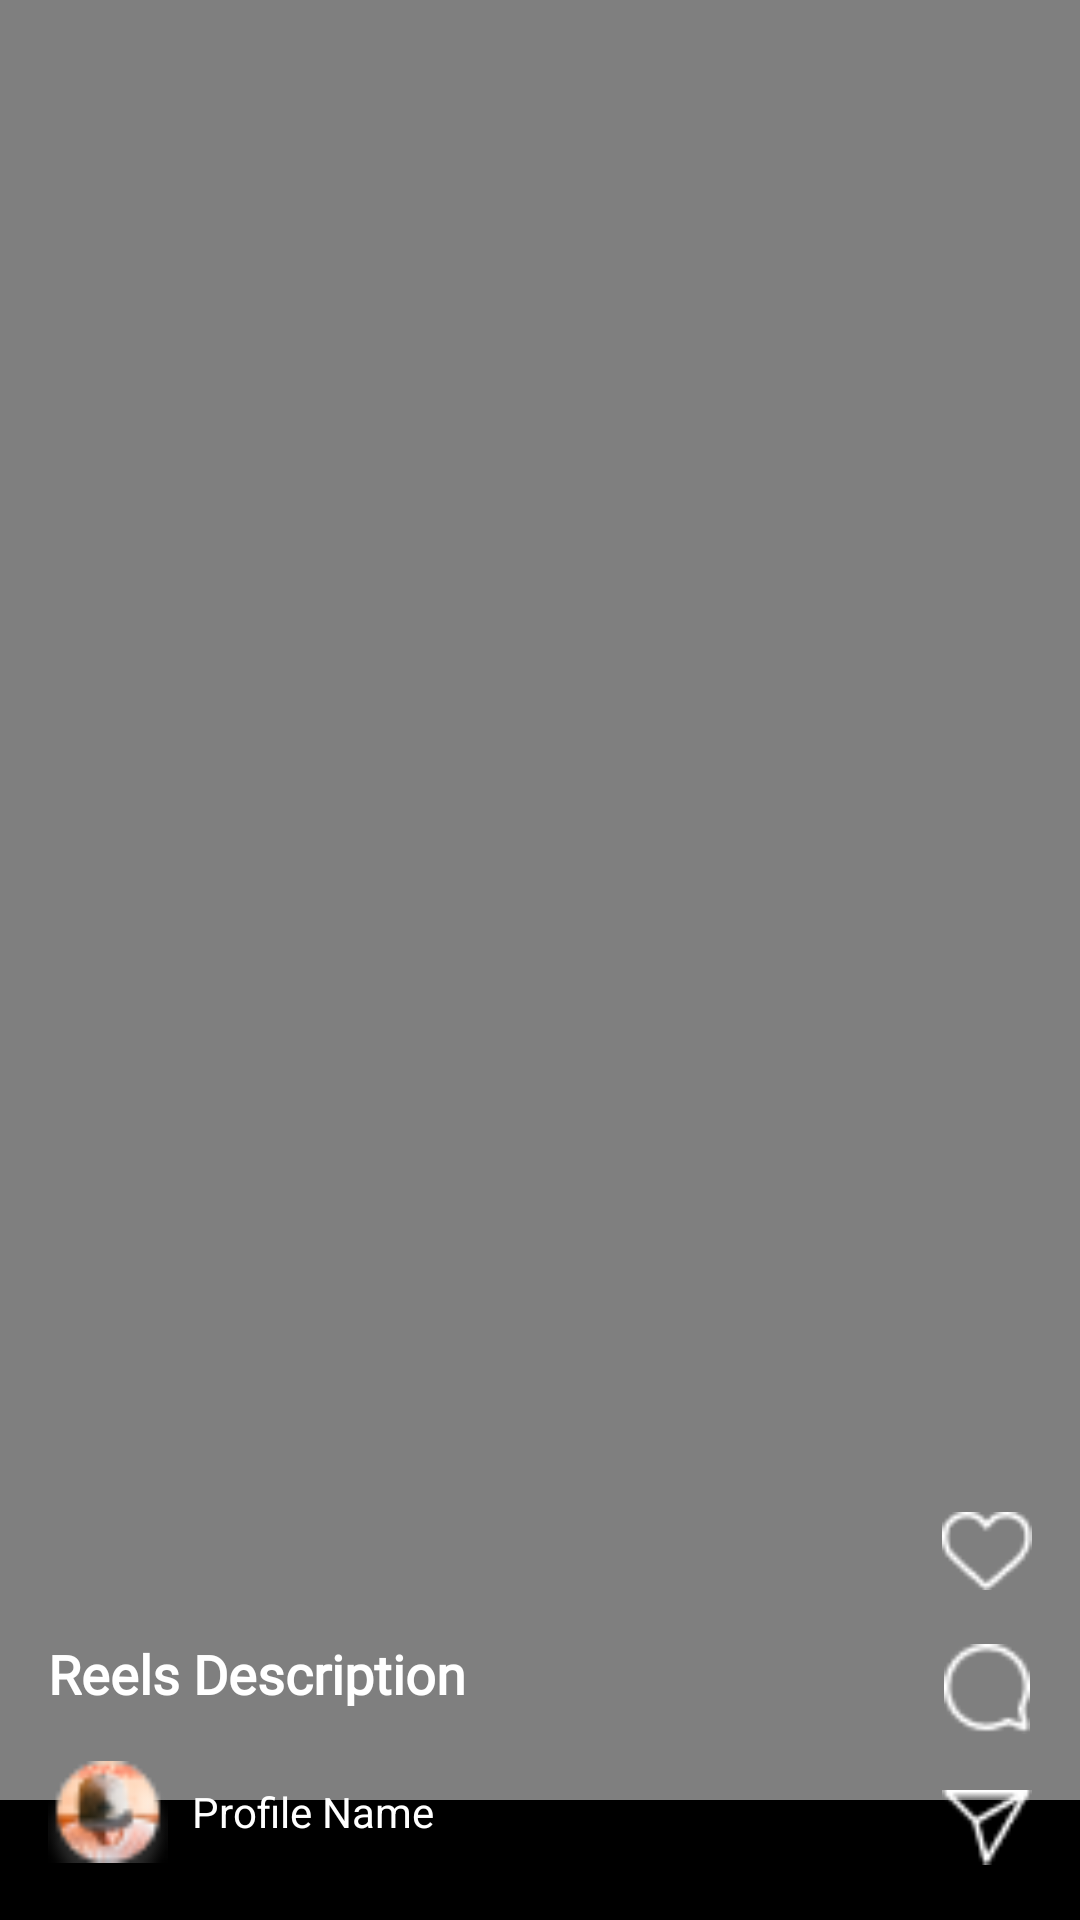

Named icons in this screenshot (1080w x 1920h) and their bounding boxes, (x1, y1, x2, y2):
comments: (944, 1644, 1030, 1731)
like: (942, 1512, 1032, 1590)
shares: (942, 1782, 1032, 1865)
